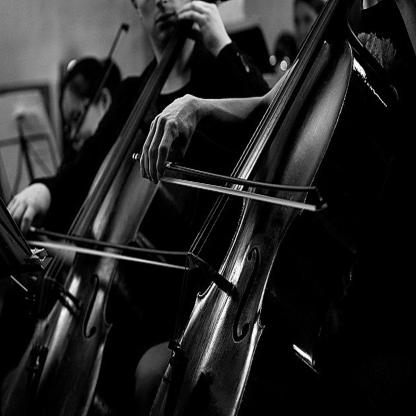good: (138, 76, 200, 187)
